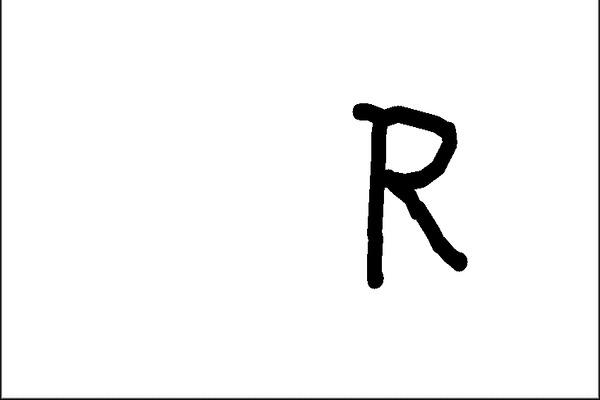R: (337, 97, 482, 310)
